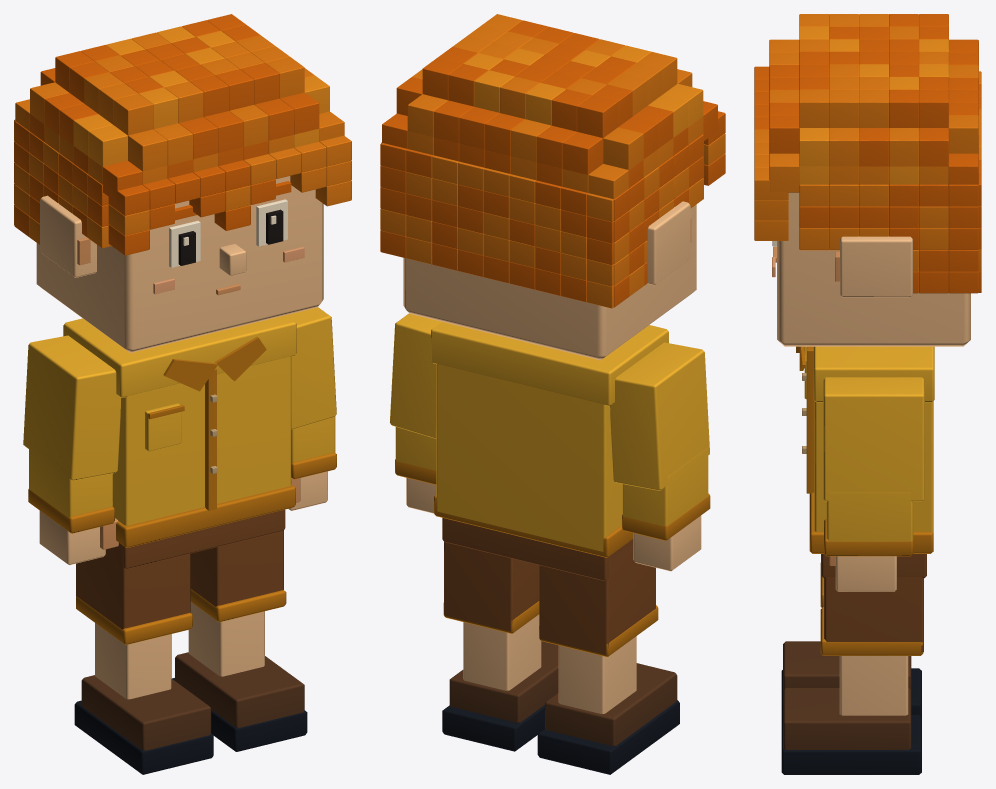
The model's file is 02_Worker_Orange_Yellow.glb.
3 views of the same model, side by side, from view 1: azimuth 30°, elevation 25°; view 2: azimuth 150°, elevation 25°; view 3: azimuth 270°, elevation 25° (orthographic). The views are drawn at different scales.
Visible parts, largest first — view 1: Head.001, Torso.001, Upper sleeve.002, Shoulders.001, Shorts / leg, Shoe / upper.002, Shoe / upper.003, Shorts / leg.001, Upper sleeve.003, Bare shin, Bare shin.001, Shirt hem.001 (+60 smaller); view 2: Torso.001, Head.001, Upper sleeve.002, Shoulders.001, Shorts / leg, Shorts / leg.001, Shoe / upper.002, Upper sleeve.003, Bare shin, Bare shin.001, Waist.001, Shoe / upper.003 (+63 smaller); view 3: Head.001, Upper sleeve.003, Shoe / upper.003, Shorts / leg.001, Ear.003, Shoulders.001, Lower sleeve.003, Bare shin.001, Shoe / sole.003, Torso.001, Shoe / upper.002, Hand.003 (+62 smaller).
Part boxes in pixels (bbox=[...]): Head.001: bbox=[36, 176, 323, 352]; Torso.001: bbox=[113, 356, 291, 525]; Upper sleeve.002: bbox=[23, 335, 121, 480]; Shoulders.001: bbox=[63, 315, 296, 397]; Shorts / leg: bbox=[76, 546, 190, 629]; Shoe / upper.002: bbox=[81, 675, 211, 750]; Shoe / upper.003: bbox=[175, 652, 304, 727]; Shorts / leg.001: bbox=[190, 530, 283, 606]; Upper sleeve.003: bbox=[286, 307, 336, 429]; Bare shin: bbox=[95, 623, 171, 699]; Bare shin.001: bbox=[188, 602, 264, 676]; Shirt hem.001: bbox=[116, 484, 295, 547]; Torso.001: bbox=[436, 363, 622, 551]; Head.001: bbox=[403, 204, 696, 360]; Upper sleeve.002: bbox=[610, 342, 709, 490]; Shoulders.001: bbox=[431, 322, 668, 406]; Shorts / leg: bbox=[539, 544, 655, 654]; Shorts / leg.001: bbox=[444, 542, 539, 631]; Shoe / upper.002: bbox=[545, 663, 677, 745]; Upper sleeve.003: bbox=[390, 313, 441, 438]; Bare shin: bbox=[558, 636, 636, 713]; Bare shin.001: bbox=[463, 614, 541, 690]; Waist.001: bbox=[442, 518, 633, 580]; Shoe / upper.003: bbox=[449, 641, 558, 722]; Head.001: bbox=[777, 192, 970, 346]; Upper sleeve.003: bbox=[823, 377, 924, 501]; Shoe / upper.003: bbox=[783, 688, 911, 749]; Shorts / leg.001: bbox=[824, 577, 923, 652]; Ear.003: bbox=[840, 236, 912, 297]; Shoulders.001: bbox=[813, 346, 934, 402]; Lower sleeve.003: bbox=[826, 492, 913, 541]; Bare shin.001: bbox=[839, 656, 908, 715]; Shoe / sole.003: bbox=[781, 715, 921, 774]; Torso.001: bbox=[814, 401, 933, 533]; Shoe / upper.002: bbox=[783, 641, 911, 690]; Hand.003: bbox=[835, 556, 896, 591].
Size of the model in its own units: 1.06 by 2.5 by 0.763.
